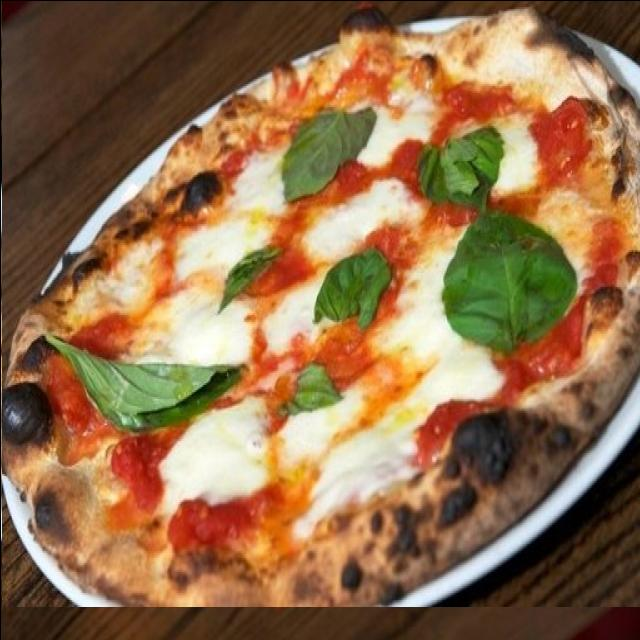basil: (395, 176, 598, 274), (63, 251, 200, 395), (265, 404, 360, 502), (137, 393, 225, 484), (250, 279, 328, 361), (359, 292, 426, 365), (298, 191, 366, 243)
pizza: (1, 0, 640, 606)
